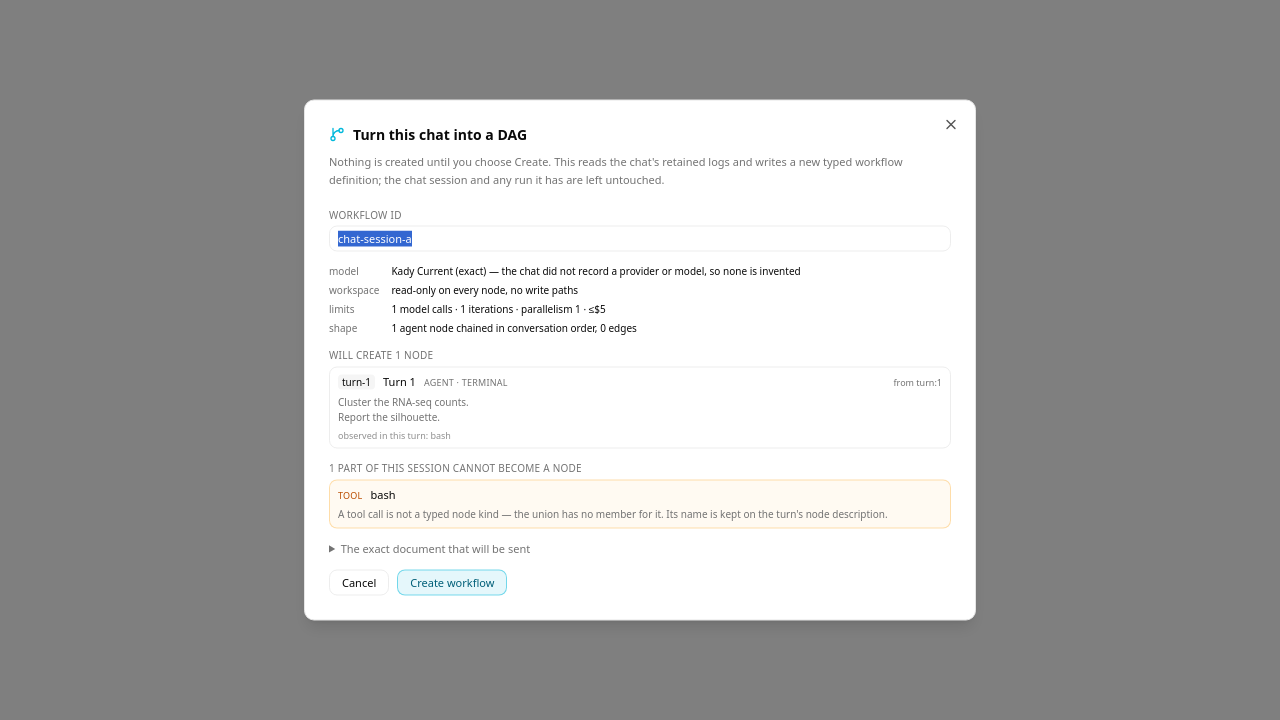
promote-to-DAG dialog › does not claim nothing was created when the route never answered
Click the button "Create workflow": (452, 582) [397,569,507,596]
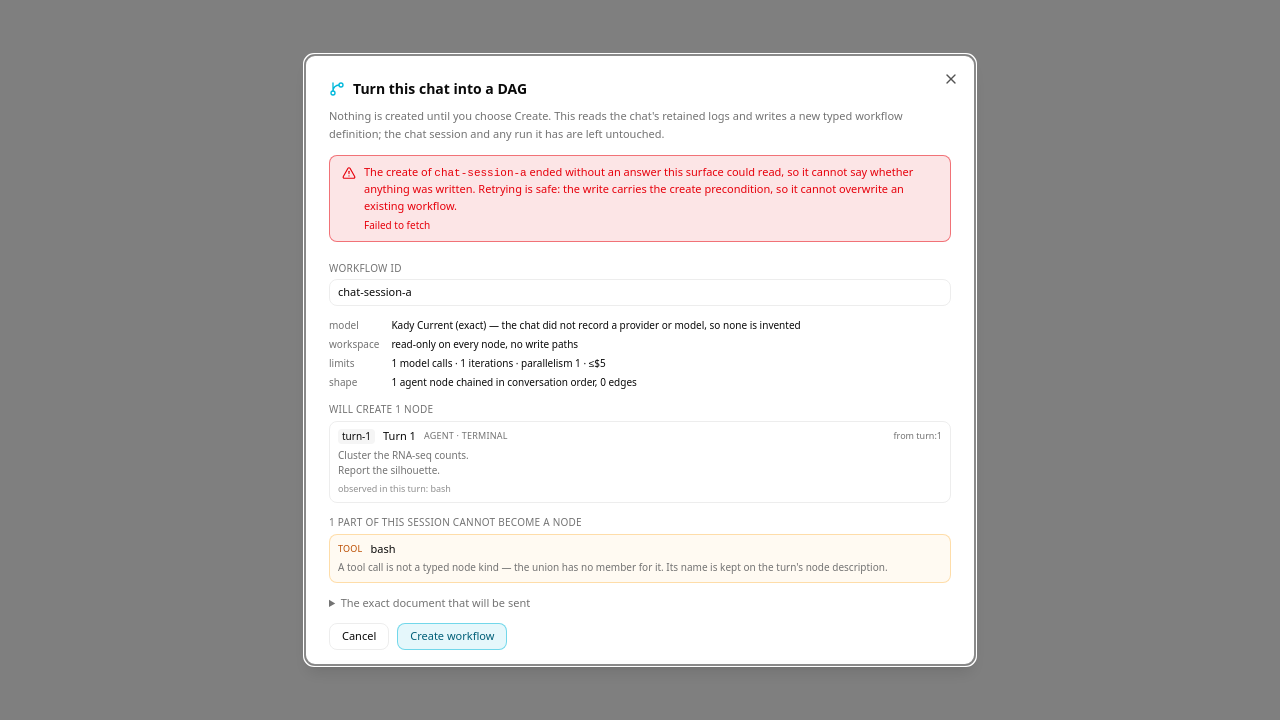
Now the message shows "ended without an answer this surface could read", box [364,164,913,213]
Now the message shows "cannot say whether anything was written", box [364,164,913,213]
Now the message shows "Failed to fetch", box [364,218,430,232]
